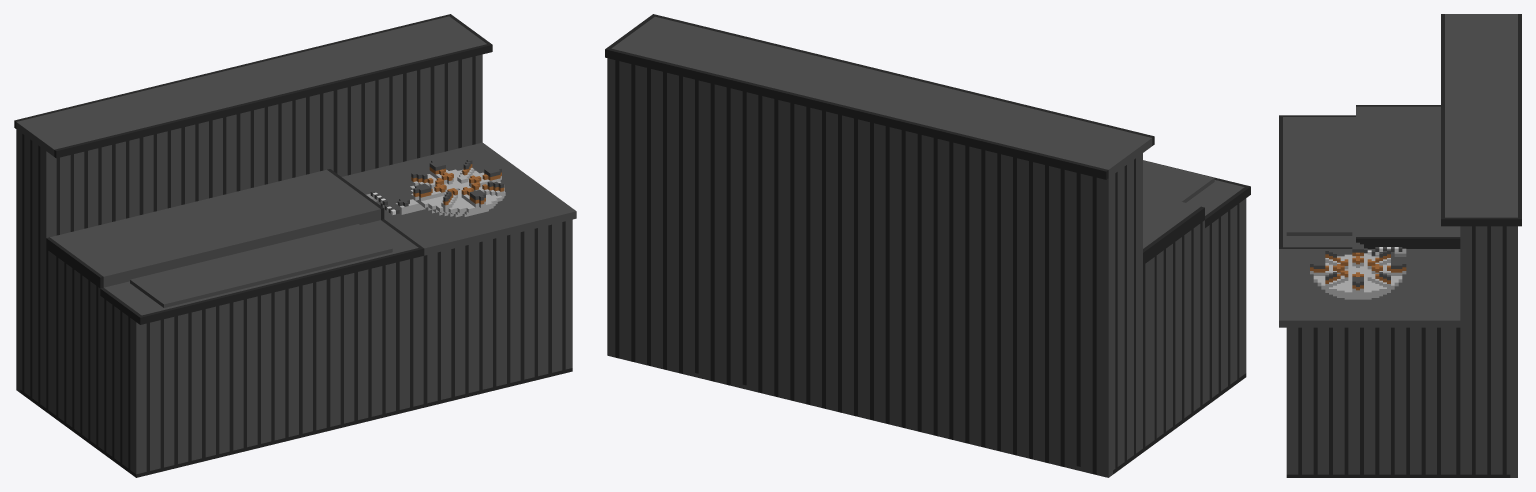
Rendered from kitchen.ver2.1.obj.
The picture shows the model from 3 angles, left to right: view 1: azimuth 30°, elevation 25°; view 2: azimuth 150°, elevation 25°; view 3: azimuth 270°, elevation 25°; orthographic projection. The views are drawn at different scales.
Size of the model in its own units: 12.6 by 7.4 by 6.3.
